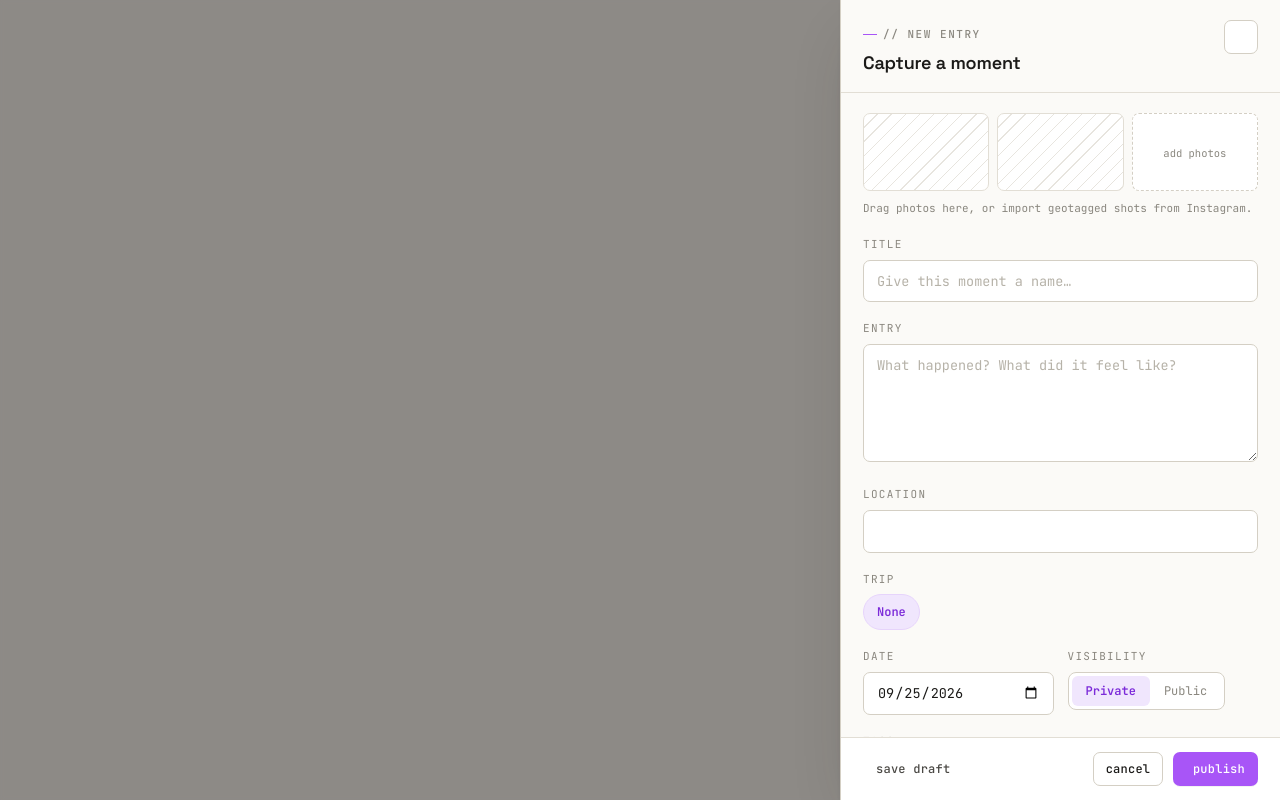
Scenario: AppNewEntry › surfaces a server-intended data.statusMessage as the publish error
Click the button with class "btn--primary": [1216, 769] box [1173,752,1258,786]
(page scrolled)
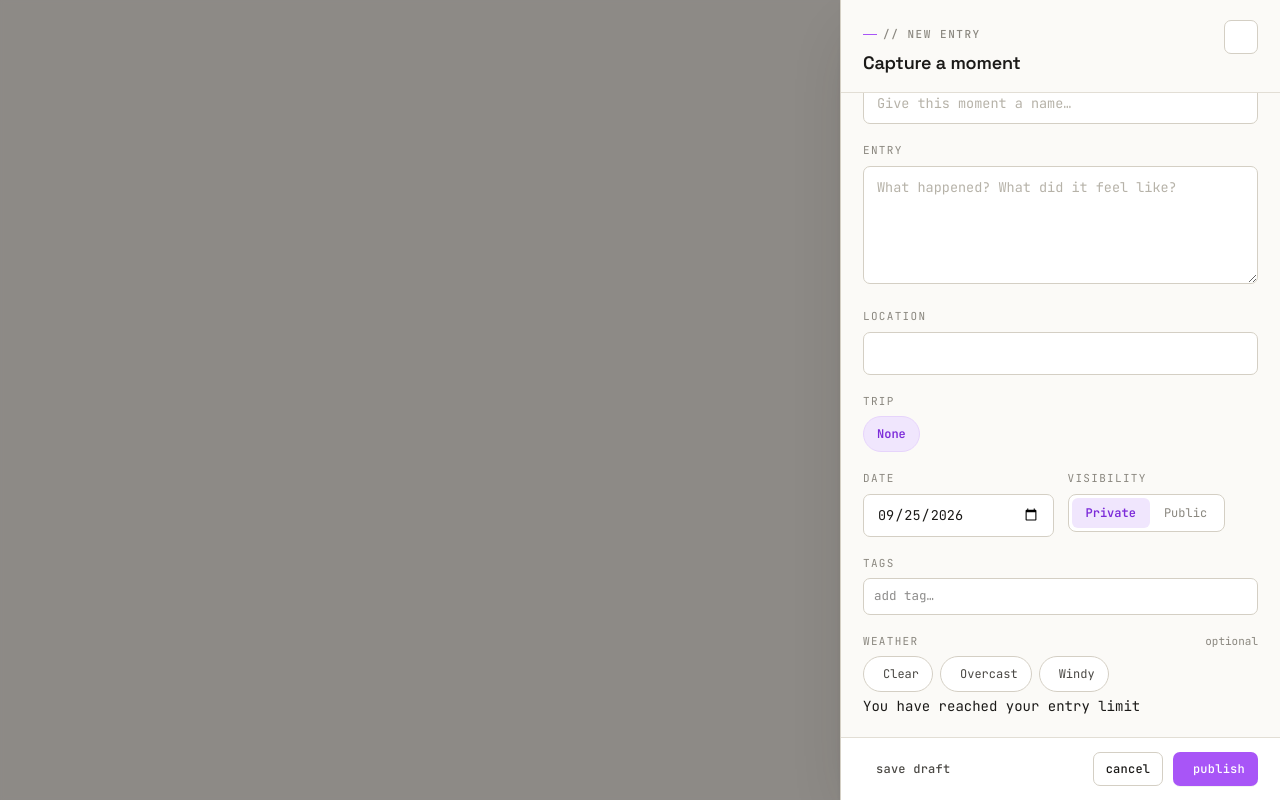
expect the text with test id "publish-error" reads "You have reached your entry limit": met, box [863,697,1140,715]
